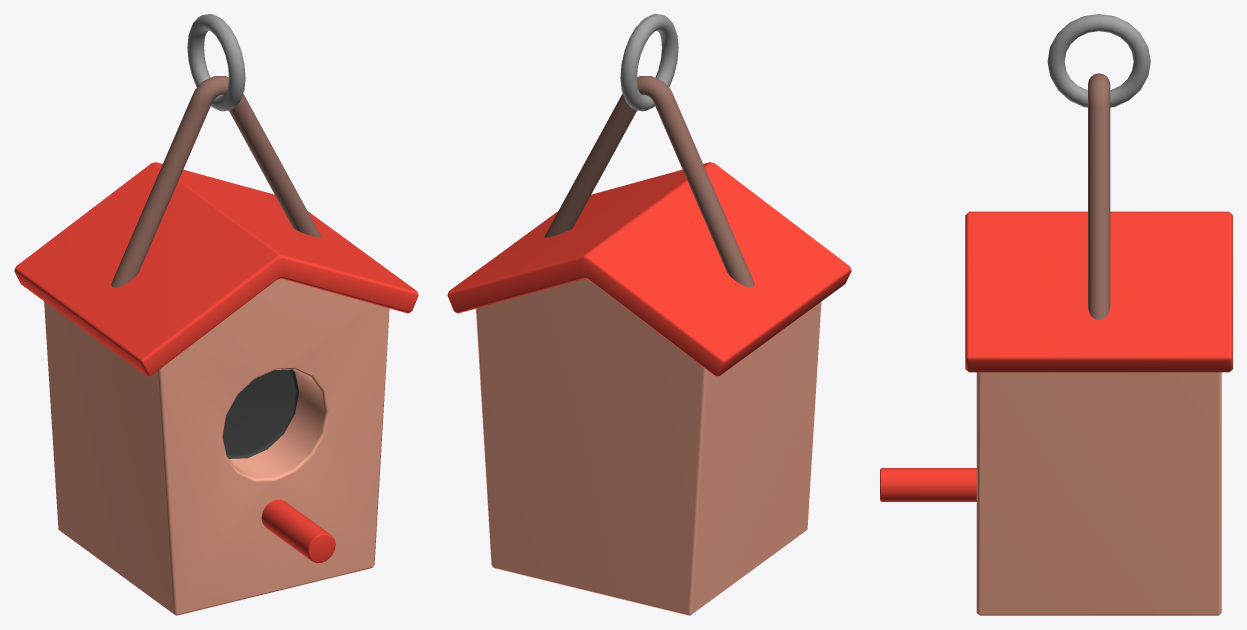
Rendered from Farm_11_Birdhouse_2.glb.
The picture shows the model from 3 angles, left to right: view 1: azimuth 30°, elevation 25°; view 2: azimuth 150°, elevation 25°; view 3: azimuth 270°, elevation 25°; orthographic projection. The views are drawn at different scales.
Parts seen in each view (by area): view 1: Farm_11_Birdhouse_2; view 2: Farm_11_Birdhouse_2; view 3: Farm_11_Birdhouse_2.
Part boxes in pixels (x1=…): Farm_11_Birdhouse_2: x1=14, y1=14, x2=418, y2=615; Farm_11_Birdhouse_2: x1=447, y1=14, x2=851, y2=615; Farm_11_Birdhouse_2: x1=880, y1=14, x2=1232, y2=615.
Size of the model in its own units: 0.6756 by 1.23 by 0.7153.
Materials: 1 (1 with a texture image).
